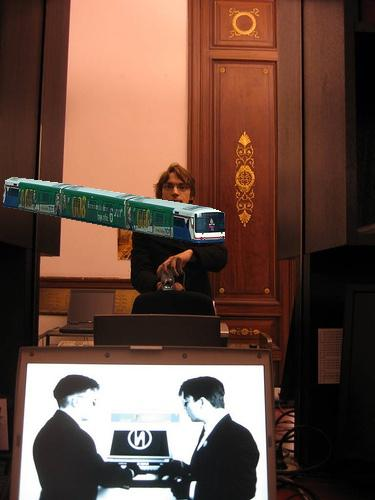tampered: (3, 178, 225, 243)
